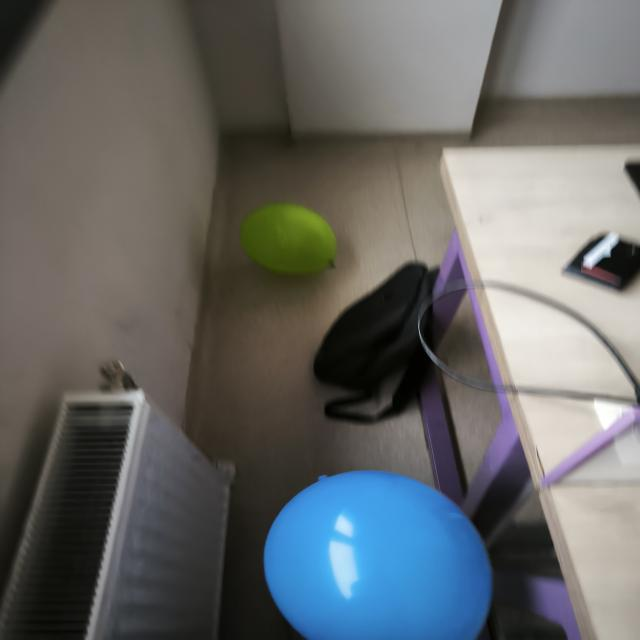balloon: (263, 471, 492, 640), (240, 202, 336, 274)
